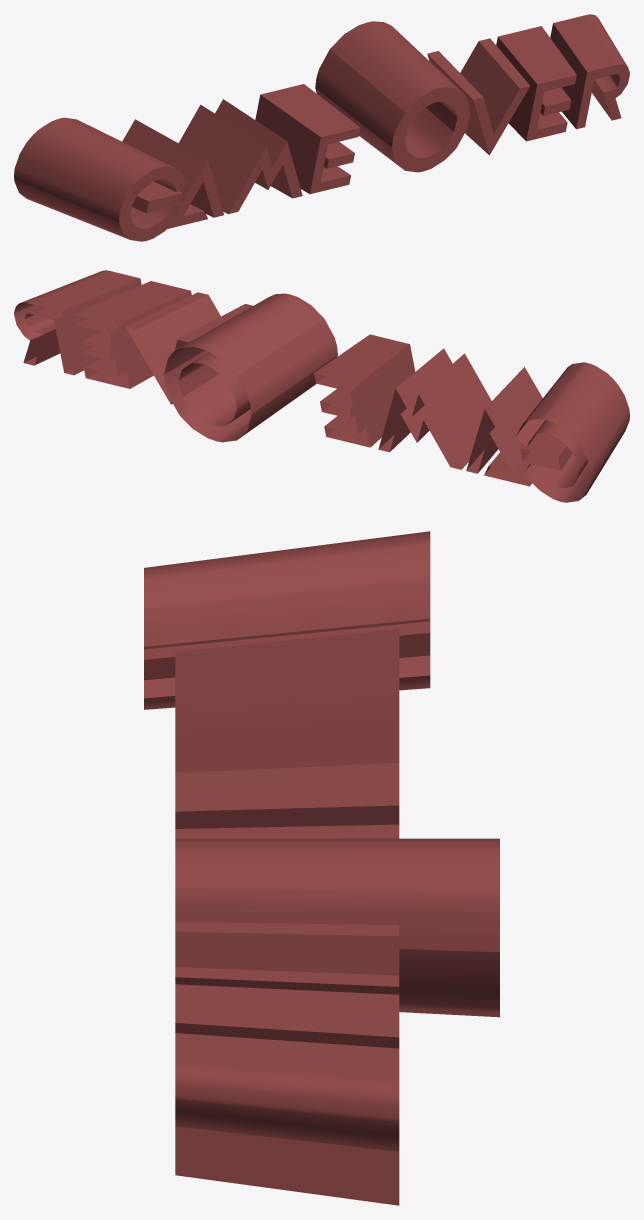
File: GameOver.fbx
3 renders of one model, top to bottom at view 1: azimuth 30°, elevation 25°; view 2: azimuth 150°, elevation 25°; view 3: azimuth 270°, elevation 25°, orthographic. The views are drawn at different scales.
Parts seen in each view (by area): view 1: polySurface6, polySurface2, polySurface11, polySurface4, polySurface8, polySurface1, polySurface7, polySurface10; view 2: polySurface6, polySurface2, polySurface11, polySurface4, polySurface1, polySurface8, polySurface10, polySurface7; view 3: polySurface6, polySurface1, polySurface2, polySurface4, polySurface7, polySurface11, polySurface10, polySurface8.
Boxes of the visible parts, x1,y1,x2,y2 form: polySurface6: (315, 21, 470, 172); polySurface2: (14, 117, 186, 241); polySurface11: (178, 99, 302, 214); polySurface4: (255, 84, 360, 194); polySurface8: (496, 26, 576, 141); polySurface1: (550, 14, 629, 129); polySurface7: (427, 38, 529, 155); polySurface10: (122, 119, 223, 228); polySurface6: (164, 293, 337, 442); polySurface2: (515, 362, 629, 502); polySurface11: (378, 348, 491, 469); polySurface4: (314, 334, 415, 447); polySurface1: (14, 270, 141, 375); polySurface8: (73, 281, 191, 388); polySurface10: (466, 367, 542, 486); polySurface7: (125, 292, 253, 404); polySurface6: (175, 838, 499, 1017); polySurface1: (175, 1033, 399, 1205); polySurface2: (144, 531, 430, 709); polySurface4: (175, 763, 399, 838); polySurface7: (175, 921, 399, 994); polySurface11: (175, 695, 399, 772); polySurface10: (175, 629, 399, 711); polySurface8: (175, 984, 399, 1048).
Size of the model in its own units: 24.35 by 3.54 by 6.48.
